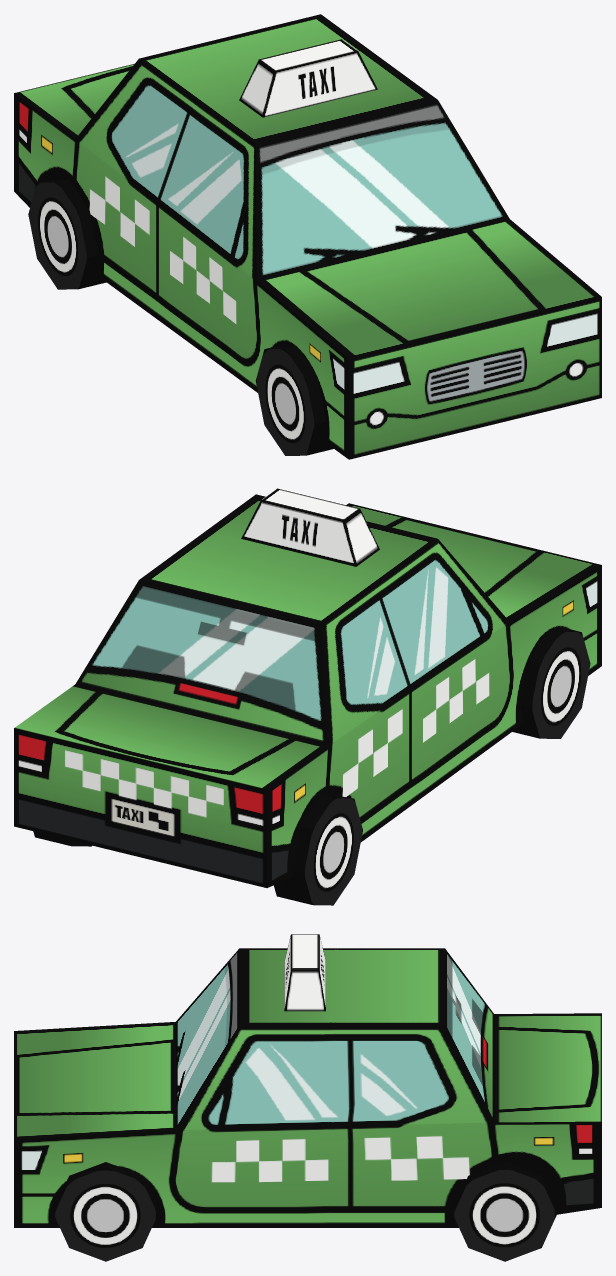
File: car11_4.gltf
3 views of the same model, one above another, from view 1: azimuth 30°, elevation 25°; view 2: azimuth 150°, elevation 25°; view 3: azimuth 270°, elevation 25° (orthographic). The views are drawn at different scales.
Parts seen in each view (by area): view 1: Cylinder.002; view 2: Cylinder.002; view 3: Cylinder.002.
Boxes of the visible parts, <box> form: Cylinder.002: <box>14,14,601,459</box>; Cylinder.002: <box>14,488,601,905</box>; Cylinder.002: <box>14,934,601,1261</box>.
Bounding box in the file's own units: 2.79 × 2.73 × 5.83.
1 material, 1 textured.
